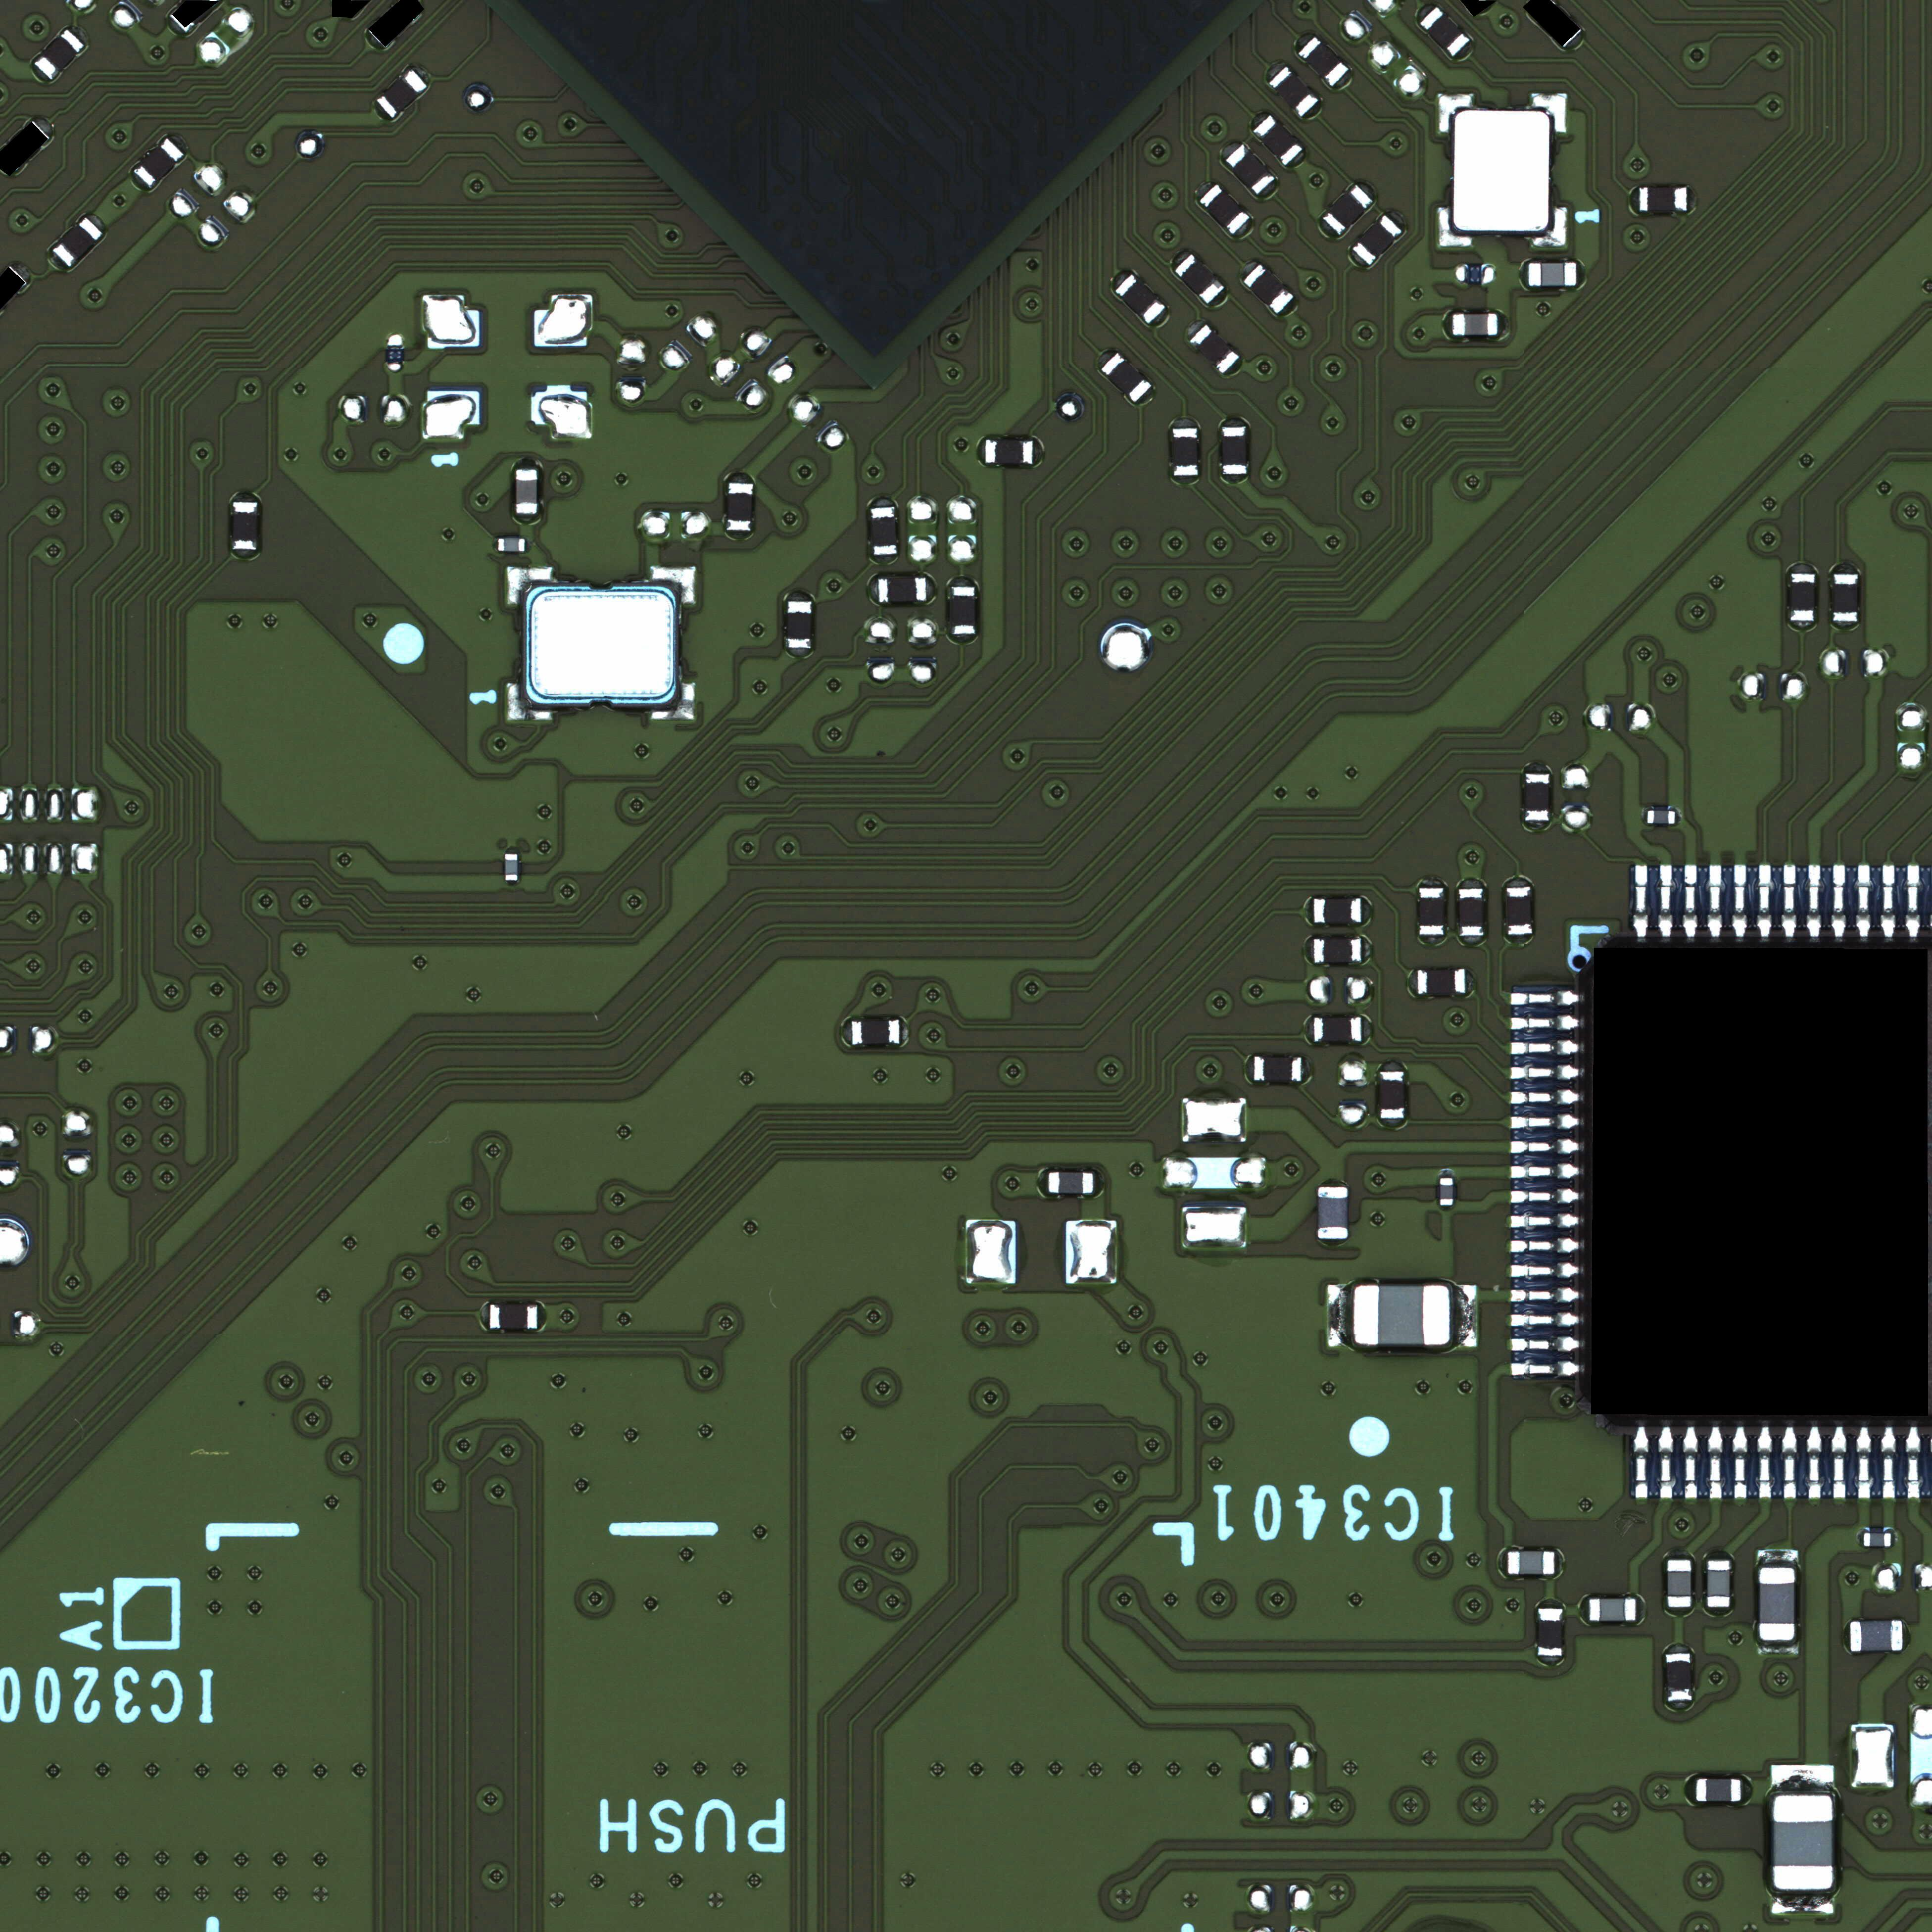Package: (524, 582, 679, 711), (1451, 110, 1552, 235), (1352, 1284, 1451, 1346), (1773, 1794, 1835, 1890), (1350, 214, 1405, 267), (1224, 143, 1277, 196), (1267, 65, 1320, 119), (1320, 184, 1375, 235), (1759, 1568, 1796, 1642), (375, 67, 428, 119), (1187, 324, 1240, 375), (1242, 264, 1295, 315), (1198, 184, 1251, 235), (1297, 35, 1350, 87), (34, 28, 85, 80), (133, 138, 184, 189), (1100, 352, 1152, 403), (1115, 272, 1166, 324), (53, 218, 104, 267), (1173, 255, 1224, 304), (1253, 115, 1302, 166), (1421, 7, 1470, 57), (1318, 1187, 1348, 1238), (1851, 1621, 1902, 1651), (725, 483, 754, 531), (950, 586, 977, 635), (1506, 886, 1532, 936), (878, 577, 927, 603), (870, 506, 897, 556), (1313, 1016, 1362, 1042), (1665, 1652, 1691, 1702), (851, 1019, 901, 1046), (1458, 888, 1484, 936), (786, 602, 812, 649), (232, 502, 258, 550), (1523, 773, 1550, 821), (1171, 428, 1198, 476), (1221, 426, 1247, 474), (985, 439, 1033, 465), (1417, 970, 1465, 996), (1789, 573, 1815, 621), (1313, 938, 1362, 962), (1253, 1056, 1302, 1081), (1638, 188, 1688, 212), (1380, 1070, 1405, 1118), (1833, 573, 1858, 621), (1419, 888, 1444, 936), (1537, 1608, 1562, 1656), (1313, 899, 1361, 924), (490, 1304, 538, 1329), (1589, 1598, 1637, 1622), (1529, 262, 1576, 287), (1667, 1560, 1691, 1606), (1706, 1560, 1730, 1606), (1507, 1552, 1555, 1575), (515, 469, 538, 515), (1047, 1171, 1093, 1194), (1695, 1778, 1741, 1801), (1453, 313, 1497, 336), (504, 853, 518, 881), (497, 538, 525, 552), (1647, 810, 1675, 824), (1863, 1532, 1891, 1546), (1440, 1178, 1454, 1205)
Solder: (1769, 1764, 1835, 1794), (649, 564, 697, 605), (506, 683, 554, 722), (506, 566, 554, 605), (649, 681, 697, 720), (1451, 1284, 1477, 1348), (1437, 92, 1474, 136), (1327, 1284, 1352, 1346), (1530, 207, 1568, 248), (1771, 1891, 1835, 1914), (1530, 94, 1568, 133), (1437, 207, 1472, 248), (1831, 863, 1847, 938), (1881, 1426, 1897, 1499), (1633, 865, 1649, 938), (1658, 865, 1674, 938), (1782, 865, 1798, 938), (1509, 1065, 1580, 1081), (1511, 1361, 1580, 1376), (1511, 1338, 1580, 1353), (1511, 1288, 1580, 1304), (1511, 1214, 1580, 1230), (1511, 1238, 1580, 1254), (1511, 1164, 1580, 1180), (1511, 1115, 1580, 1131), (1511, 1016, 1580, 1031), (1856, 863, 1870, 938), (1881, 863, 1895, 938), (1905, 1426, 1920, 1499), (1858, 1426, 1872, 1499), (1833, 1426, 1847, 1499), (1734, 1426, 1748, 1499), (1806, 1426, 1821, 1499), (1783, 1426, 1798, 1499), (1759, 1426, 1773, 1499), (1635, 1426, 1649, 1499), (1684, 1426, 1698, 1499), (1707, 1426, 1721, 1499), (1683, 865, 1697, 938), (1707, 865, 1721, 938), (1734, 865, 1748, 938), (1759, 865, 1773, 938), (1806, 865, 1821, 938), (1905, 865, 1920, 938), (1660, 1428, 1674, 1499), (1509, 1141, 1580, 1155), (1509, 1042, 1580, 1056), (1509, 993, 1580, 1007), (1511, 1313, 1580, 1327), (1511, 1191, 1580, 1205), (1511, 1263, 1580, 1277), (1511, 1092, 1580, 1106), (30, 110, 60, 140), (42, 248, 71, 276), (366, 99, 395, 127), (1313, 216, 1341, 244), (1260, 55, 1288, 83), (1300, 99, 1329, 127), (9, 257, 37, 285), (65, 19, 94, 46), (124, 170, 152, 196), (1231, 216, 1260, 242), (85, 209, 111, 235), (410, 60, 437, 87), (1134, 384, 1161, 410), (1189, 175, 1215, 202), (1215, 134, 1242, 161), (1258, 177, 1284, 203), (1343, 248, 1369, 274), (1290, 27, 1316, 53), (1330, 69, 1357, 96), (1408, 0, 1437, 25), (1106, 265, 1132, 290), (1148, 306, 1175, 331), (1207, 287, 1233, 311), (1180, 315, 1207, 340), (1223, 357, 1249, 382), (1276, 297, 1302, 322), (1284, 149, 1311, 173), (1355, 177, 1382, 202), (1385, 207, 1412, 232), (1564, 30, 1591, 55), (1759, 1552, 1798, 1568), (166, 131, 191, 156), (1093, 345, 1118, 370), (1166, 246, 1191, 271), (1235, 257, 1260, 281), (163, 14, 188, 39), (27, 64, 53, 87), (1246, 108, 1270, 131), (1454, 41, 1477, 65), (361, 30, 384, 53), (230, 488, 258, 504), (1759, 1642, 1798, 1652), (784, 589, 814, 602), (1829, 561, 1859, 573), (927, 575, 939, 605), (1169, 416, 1200, 428), (1787, 561, 1817, 573), (1378, 1058, 1407, 1070), (1499, 311, 1511, 340), (1093, 1169, 1106, 1198), (1419, 876, 1447, 888), (510, 456, 541, 467), (867, 573, 878, 605), (1456, 878, 1488, 888), (1637, 1594, 1647, 1626), (1578, 1594, 1589, 1626), (947, 575, 978, 586), (1497, 1546, 1507, 1578), (947, 635, 978, 646), (511, 515, 543, 525), (1217, 416, 1249, 426), (1169, 476, 1201, 487), (1502, 876, 1534, 886), (1683, 1776, 1695, 1803), (1663, 1642, 1693, 1652), (1504, 936, 1534, 947), (1522, 763, 1552, 773), (1576, 260, 1587, 290), (1665, 1702, 1695, 1713), (1704, 1550, 1734, 1560), (1663, 1548, 1693, 1559), (1362, 1016, 1373, 1046), (1302, 1016, 1313, 1046), (1302, 1054, 1313, 1085), (901, 1017, 911, 1047), (538, 1302, 548, 1332), (1033, 437, 1044, 467), (1417, 936, 1447, 947), (1407, 968, 1417, 998), (1842, 1619, 1851, 1654), (869, 495, 897, 506), (725, 471, 754, 481), (1523, 821, 1552, 832), (840, 1017, 851, 1046), (1442, 310, 1453, 338), (1536, 1598, 1564, 1608), (1378, 1120, 1407, 1131), (786, 649, 814, 660), (869, 556, 897, 566), (1628, 186, 1638, 214), (1688, 186, 1698, 214), (1458, 936, 1486, 947), (1037, 1169, 1047, 1196), (1537, 1656, 1564, 1667), (1221, 476, 1247, 487), (975, 435, 984, 467), (1904, 1621, 1913, 1652), (1244, 1054, 1253, 1085), (1520, 260, 1529, 290), (1704, 1608, 1734, 1617), (1555, 1550, 1564, 1580), (1304, 936, 1313, 966), (1789, 623, 1819, 632), (1831, 623, 1861, 632), (1362, 936, 1371, 964), (1362, 897, 1371, 925), (1304, 897, 1313, 925), (479, 1302, 488, 1330), (725, 531, 754, 540), (1467, 970, 1476, 998), (1741, 1778, 1752, 1801), (1316, 1240, 1350, 1247), (1318, 1178, 1350, 1185), (1667, 1606, 1691, 1615), (1437, 1169, 1456, 1178), (1640, 805, 1647, 826), (1891, 1527, 1898, 1548), (1856, 1527, 1863, 1548), (1675, 807, 1683, 826), (504, 846, 520, 853), (525, 538, 533, 554), (492, 534, 497, 554), (1438, 1207, 1456, 1212), (504, 881, 520, 886)
